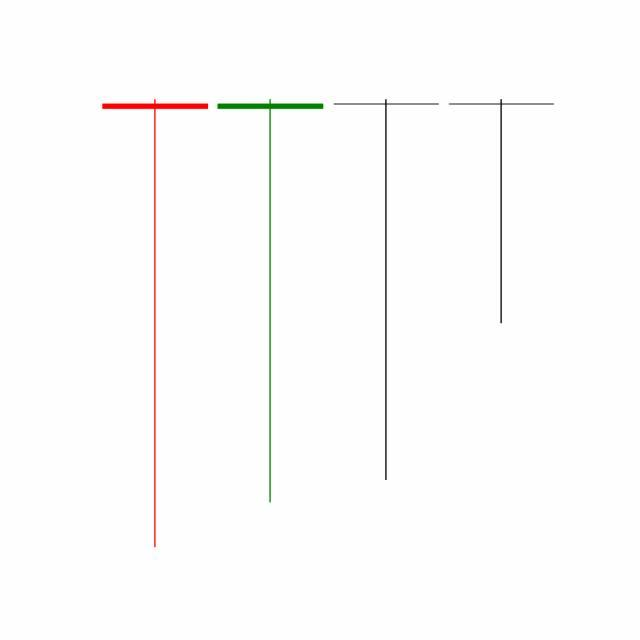Dragonfly Doji: (329, 95, 445, 485)
